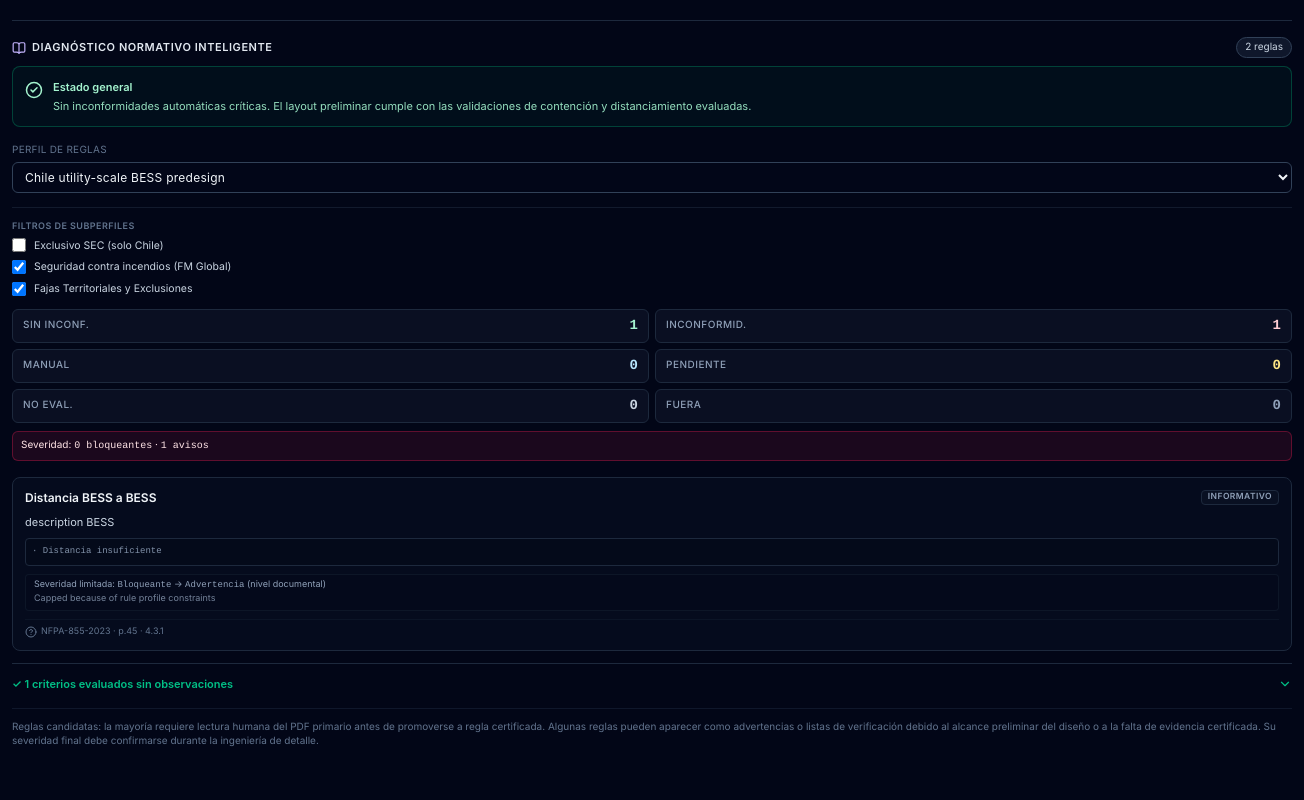
Test: CandidateRuleMatrix › renders mock rules, violations and citations/capping
# Expand the passed criteria accordion
What coordinates should you click on to do the following:
click the button "✓ 1 criterios evaluados sin observaciones"
I would click on:
 (123, 684)
Its box is [12,676,1292,692].
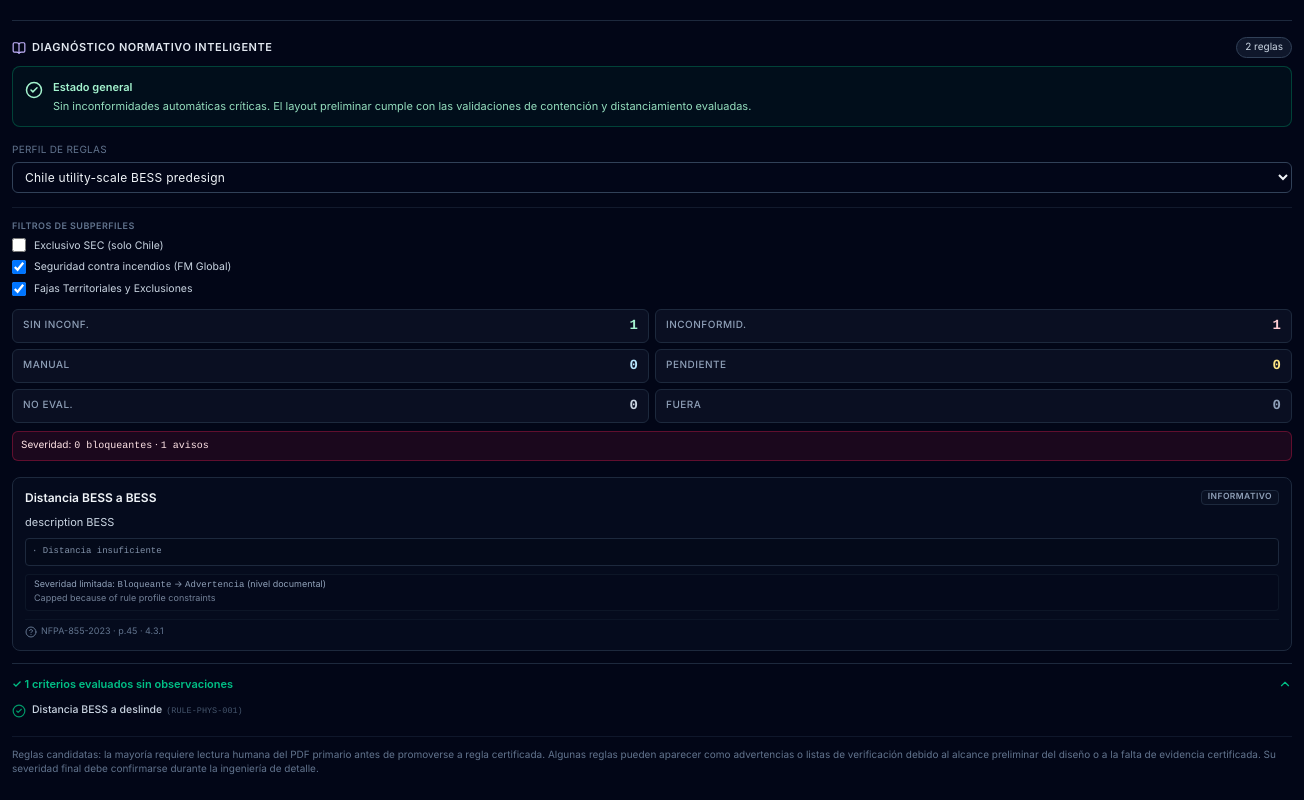
Expected: the text "· Distancia insuficiente" is shown, [32,546,162,556]
Result: the text "Distancia BESS a deslinde" is shown at [32,703,162,716]
